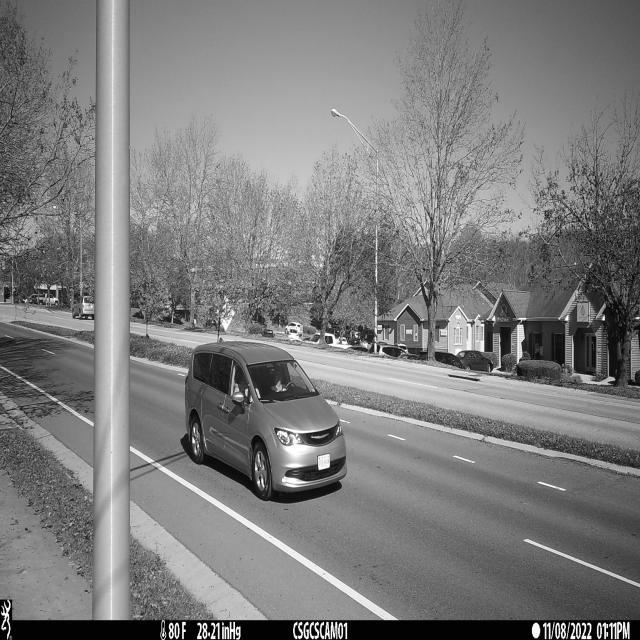Van: (186, 342, 348, 499)
